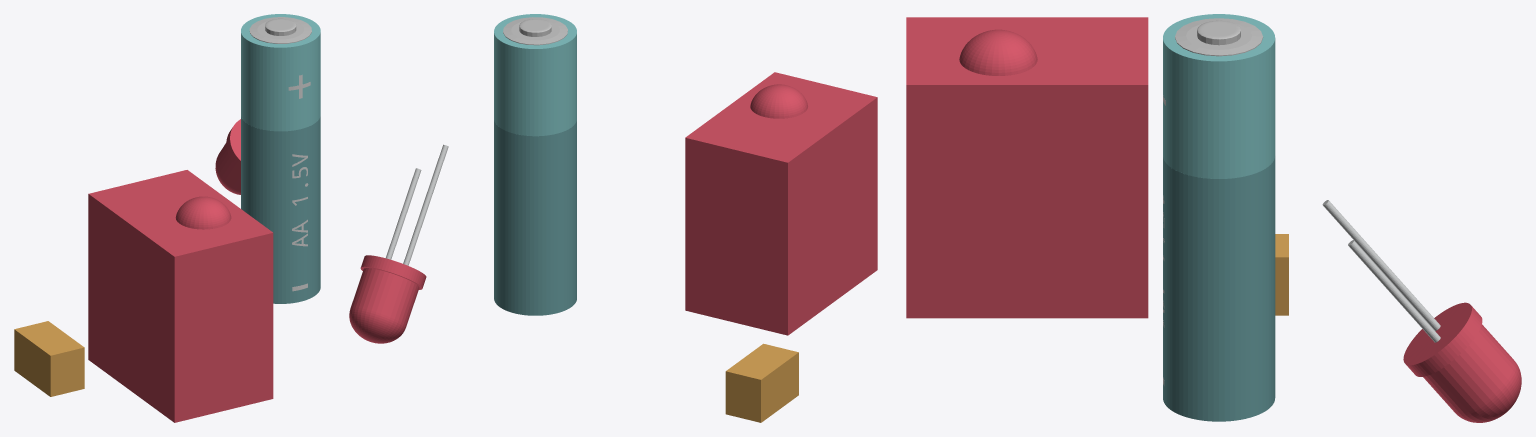
Rendered from Amazing Kup-Kasi.glb.
The picture shows the model from 3 angles, left to right: view 1: azimuth 30°, elevation 25°; view 2: azimuth 150°, elevation 25°; view 3: azimuth 270°, elevation 25°; orthographic projection. The views are drawn at different scales.
Parts seen in each view (by area): view 1: Mesh_Mesh_head_geo.001_lambert2SG.001; view 2: Mesh_Mesh_head_geo.001_lambert2SG.001; view 3: Mesh_Mesh_head_geo.001_lambert2SG.001.
Part boxes in pixels (x1,y1,x2,y2): Mesh_Mesh_head_geo.001_lambert2SG.001: (14,14,320,422); Mesh_Mesh_head_geo.001_lambert2SG.001: (349,14,877,422); Mesh_Mesh_head_geo.001_lambert2SG.001: (906,14,1521,422).
Size of the model in its own units: 65.89 by 59 by 76.74.
